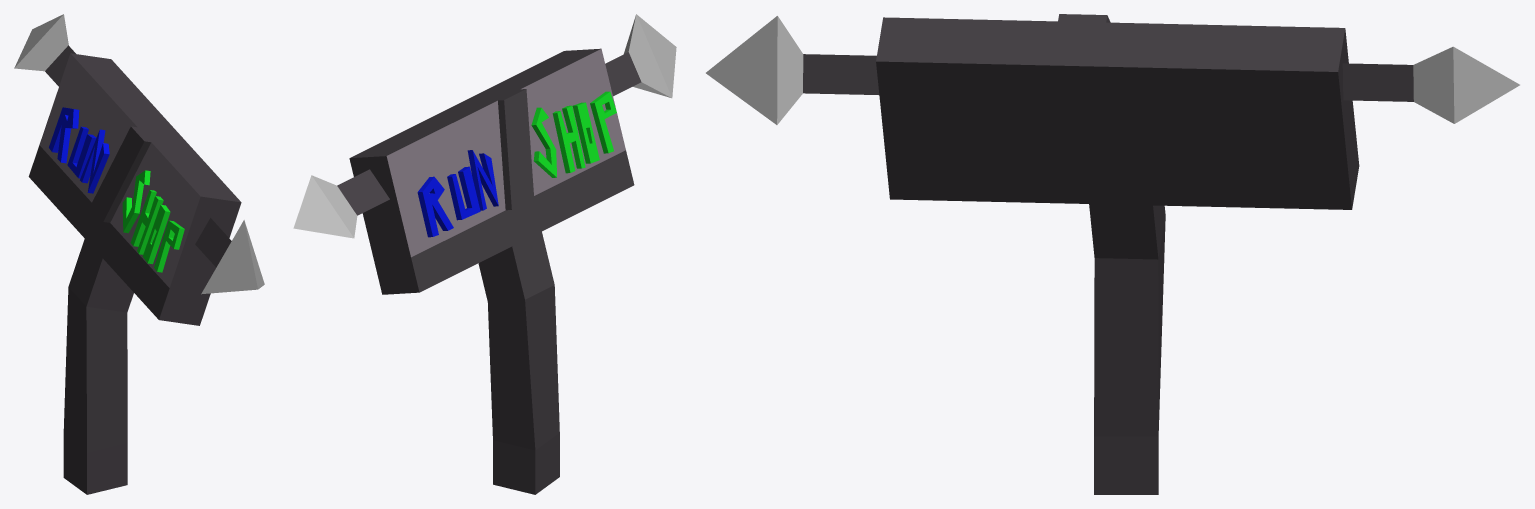
The model's file is directionSign.glb.
3 renders of one model, left to right at view 1: azimuth 30°, elevation 25°; view 2: azimuth 150°, elevation 25°; view 3: azimuth 270°, elevation 25°, orthographic. The views are drawn at different scales.
Visible parts, largest first — view 1: Cube; view 2: Cube; view 3: Cube.
Part boxes in pixels (x1,y1,x2,y2): Cube: [14, 14, 264, 494]; Cube: [293, 14, 676, 494]; Cube: [706, 14, 1519, 494].
Size of the model in its own units: 2.51 by 7.43 by 11.13.
